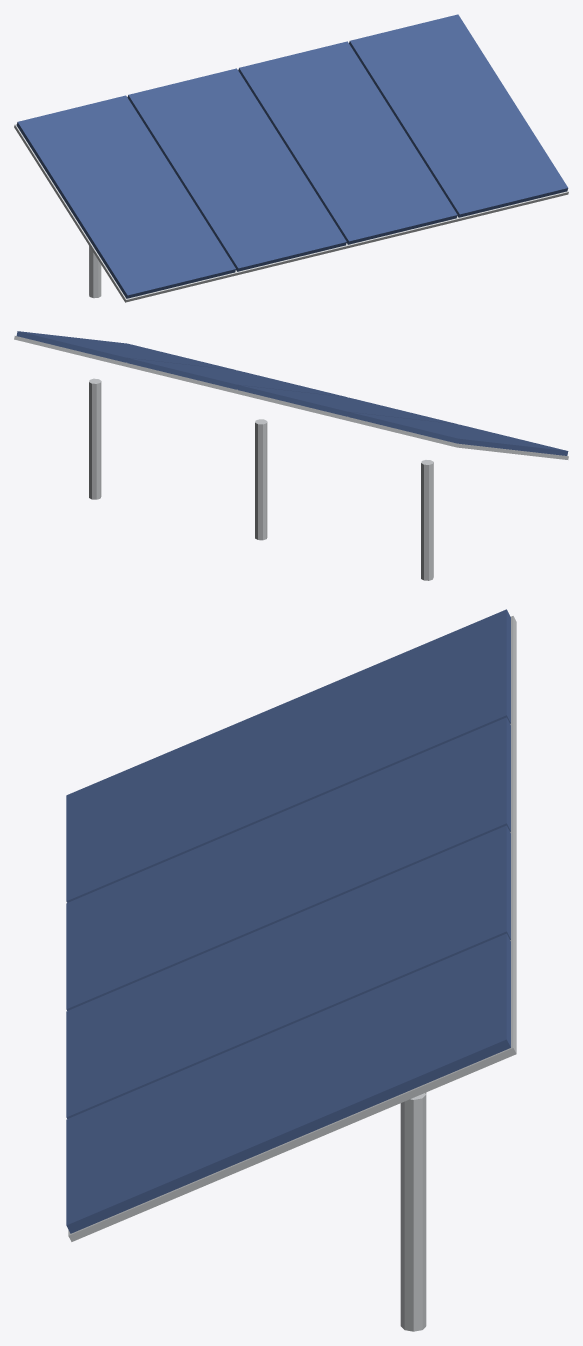
The model's file is solar.glb.
3 views of the same model, one above another, from view 1: azimuth 30°, elevation 25°; view 2: azimuth 150°, elevation 25°; view 3: azimuth 270°, elevation 25° (orthographic). The views are drawn at different scales.
Visible parts, largest first — view 1: panel0, panel3, panel2, panel1, frame0, post0, frame1, frame3, frame2; view 2: panel0, panel1, panel2, panel3, post1, post0, post2, frame0, frame3, frame1, frame2; view 3: panel3, panel2, panel0, panel1, post2, frame3.
Boxes of the visible parts, left/top/right/bottom form: panel0: left=16, top=95, right=235, bottom=298; panel3: left=349, top=14, right=568, bottom=217; panel2: left=238, top=41, right=457, bottom=244; panel1: left=127, top=68, right=346, bottom=271; frame0: left=14, top=124, right=236, bottom=302; post0: left=89, top=246, right=101, bottom=298; frame1: left=235, top=244, right=347, bottom=275; frame3: left=457, top=190, right=568, bottom=221; frame2: left=346, top=217, right=457, bottom=248; panel0: left=349, top=412, right=568, bottom=455; panel1: left=238, top=385, right=457, bottom=424; panel2: left=127, top=358, right=346, bottom=397; panel3: left=16, top=331, right=235, bottom=370; post1: left=255, top=419, right=267, bottom=540; post0: left=421, top=460, right=433, bottom=580; post2: left=89, top=378, right=101, bottom=499; frame0: left=346, top=417, right=568, bottom=459; frame3: left=14, top=336, right=126, bottom=366; frame1: left=235, top=390, right=347, bottom=420; frame2: left=124, top=363, right=237, bottom=393; panel3: left=66, top=933, right=510, bottom=1233; panel2: left=66, top=825, right=510, bottom=1118; panel0: left=66, top=609, right=510, bottom=902; panel1: left=66, top=717, right=510, bottom=1010; post2: left=400, top=1093, right=426, bottom=1331; frame3: left=68, top=940, right=516, bottom=1241.
Size of the model in its own units: 4 by 1.47 by 1.76.
